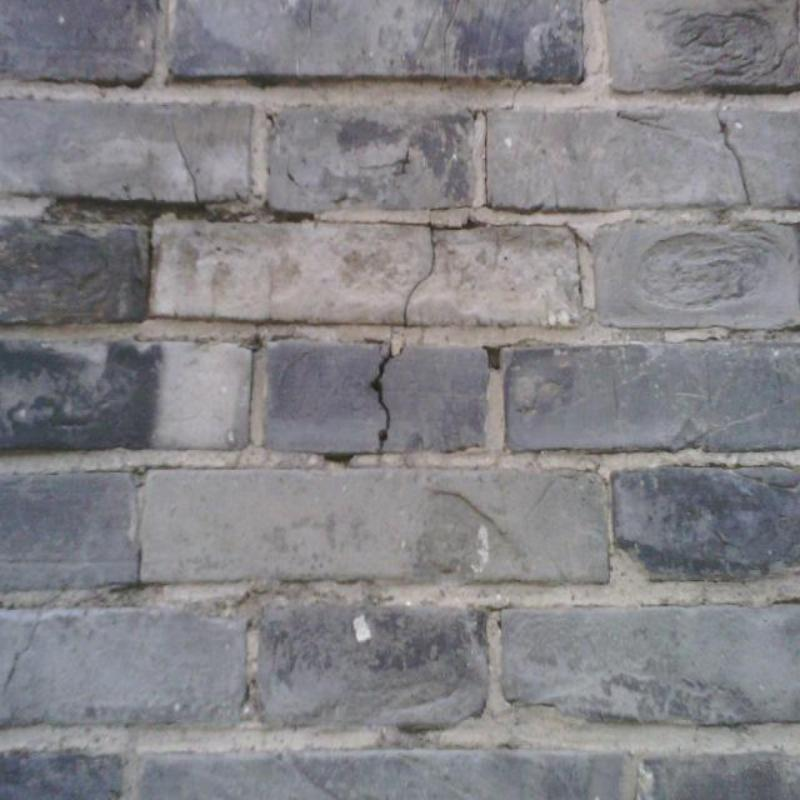crack: (482, 80, 526, 206), (275, 211, 484, 229), (426, 490, 507, 536), (403, 228, 436, 327), (368, 343, 396, 455), (2, 614, 43, 689), (717, 117, 751, 198), (170, 120, 200, 202), (566, 225, 594, 251), (482, 344, 511, 369), (324, 454, 352, 464)
